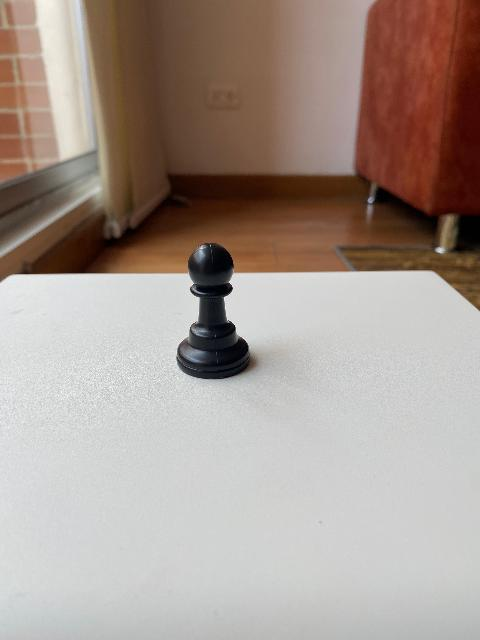black-pawn: (176, 241, 250, 379)
